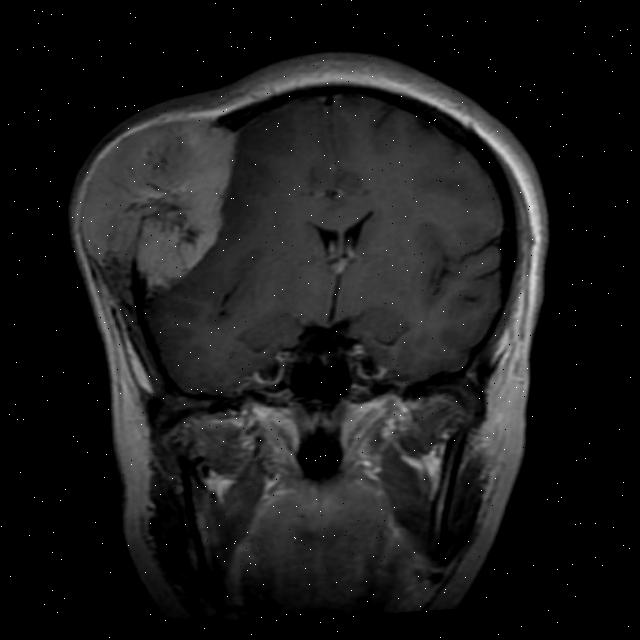Meningioma: (74, 107, 240, 287)
